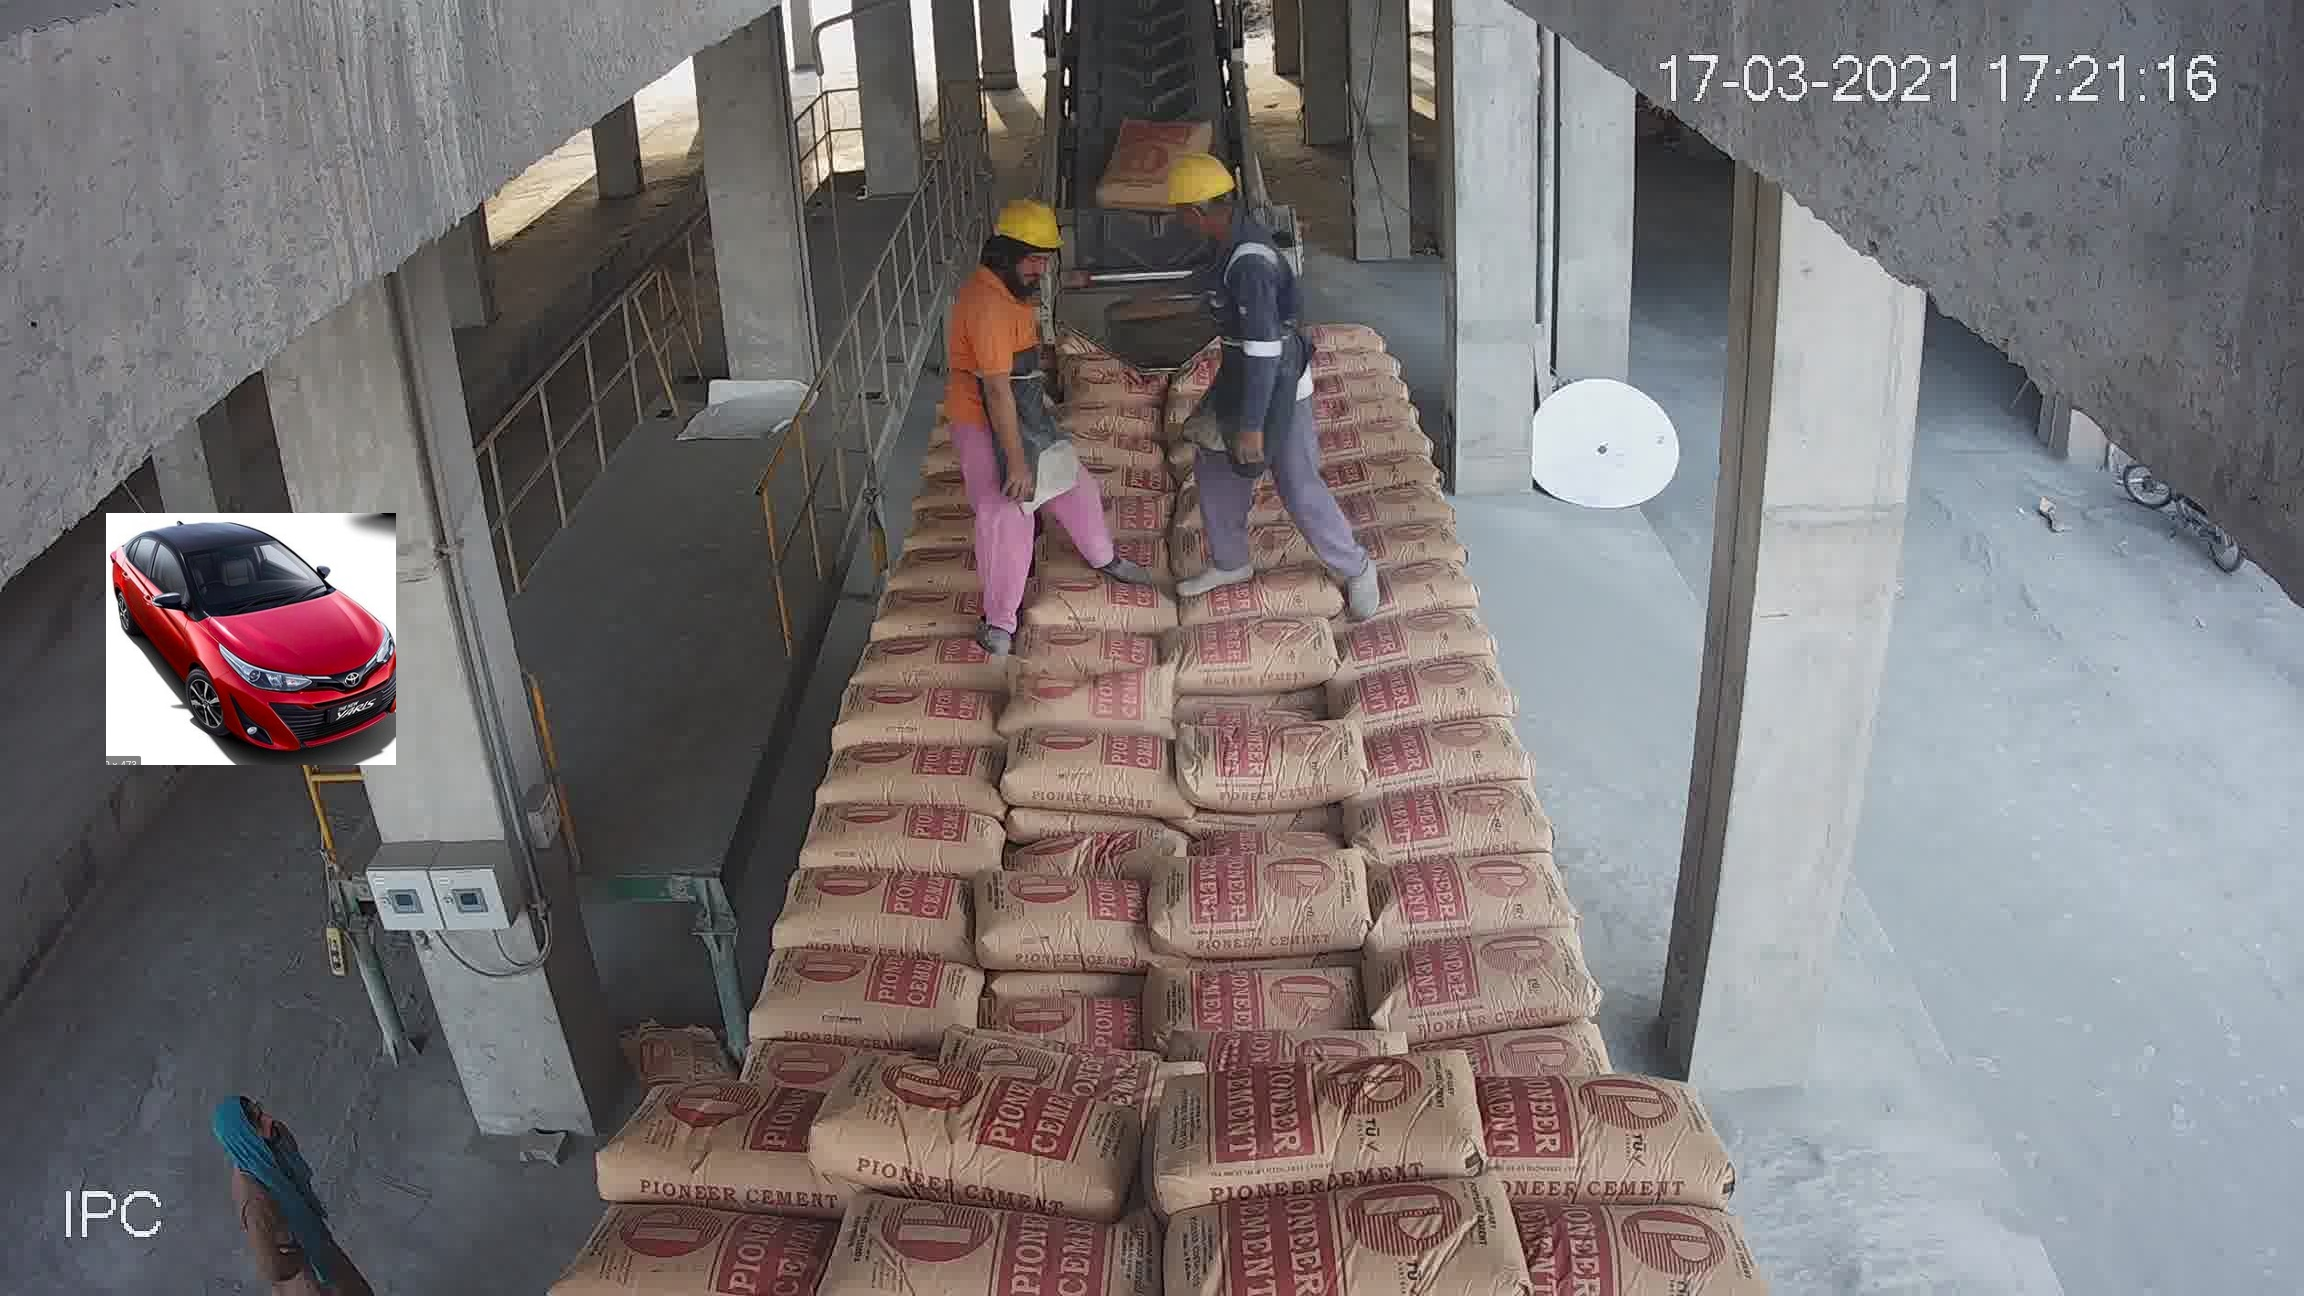bag_h: (804, 1076, 1176, 1211), (1150, 927, 1483, 1067), (1180, 1043, 1487, 1192), (1160, 1180, 1552, 1296), (1133, 813, 1419, 946), (869, 945, 1149, 1078), (630, 956, 899, 1090), (1472, 1071, 1742, 1203), (1389, 831, 1658, 961), (1445, 953, 1700, 1084), (1135, 714, 1385, 847), (1529, 1185, 1787, 1291), (1366, 761, 1608, 872), (891, 847, 1150, 945), (900, 752, 1135, 856), (807, 1209, 1135, 1279), (597, 1097, 805, 1204), (669, 869, 873, 961), (543, 1218, 843, 1280), (714, 777, 892, 869), (766, 733, 927, 802), (1381, 650, 1525, 725), (1017, 617, 1173, 680), (1022, 571, 1188, 628), (1002, 673, 1177, 723), (1177, 536, 1282, 614), (1396, 720, 1524, 772), (1032, 529, 1173, 576), (1014, 733, 1176, 772), (1176, 606, 1271, 673)
belt: (1027, 0, 1288, 468)
